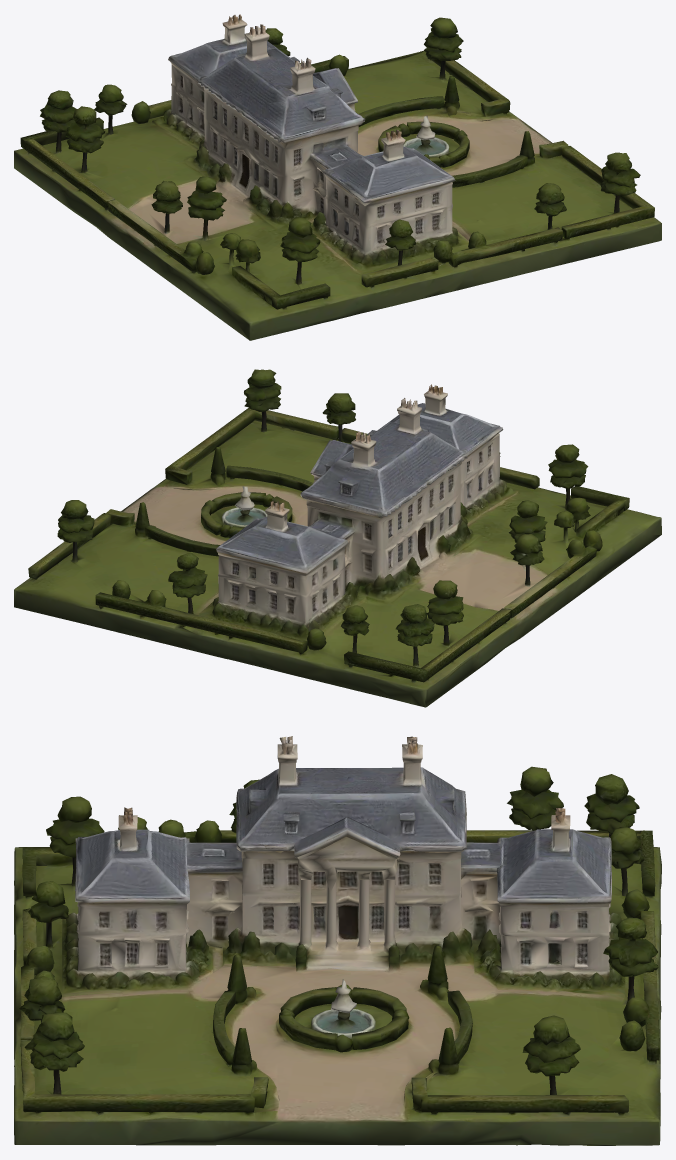
The model's file is home-house2-hf.glb.
3 views of the same model, one above another, from view 1: azimuth 30°, elevation 25°; view 2: azimuth 150°, elevation 25°; view 3: azimuth 270°, elevation 25° (orthographic). The views are drawn at different scales.
Parts seen in each view (by area): view 1: tripo_node_9462f68f-2213-48a8-91b8-a210467e7840; view 2: tripo_node_9462f68f-2213-48a8-91b8-a210467e7840; view 3: tripo_node_9462f68f-2213-48a8-91b8-a210467e7840.
Boxes of the visible parts, box(x1,y1,x2,y2) form: tripo_node_9462f68f-2213-48a8-91b8-a210467e7840: box(14, 14, 661, 340); tripo_node_9462f68f-2213-48a8-91b8-a210467e7840: box(14, 369, 661, 707); tripo_node_9462f68f-2213-48a8-91b8-a210467e7840: box(14, 736, 661, 1145).
Bounding box in the file's own units: 0.9998 × 0.3939 × 0.992.
1 material, 1 textured.
